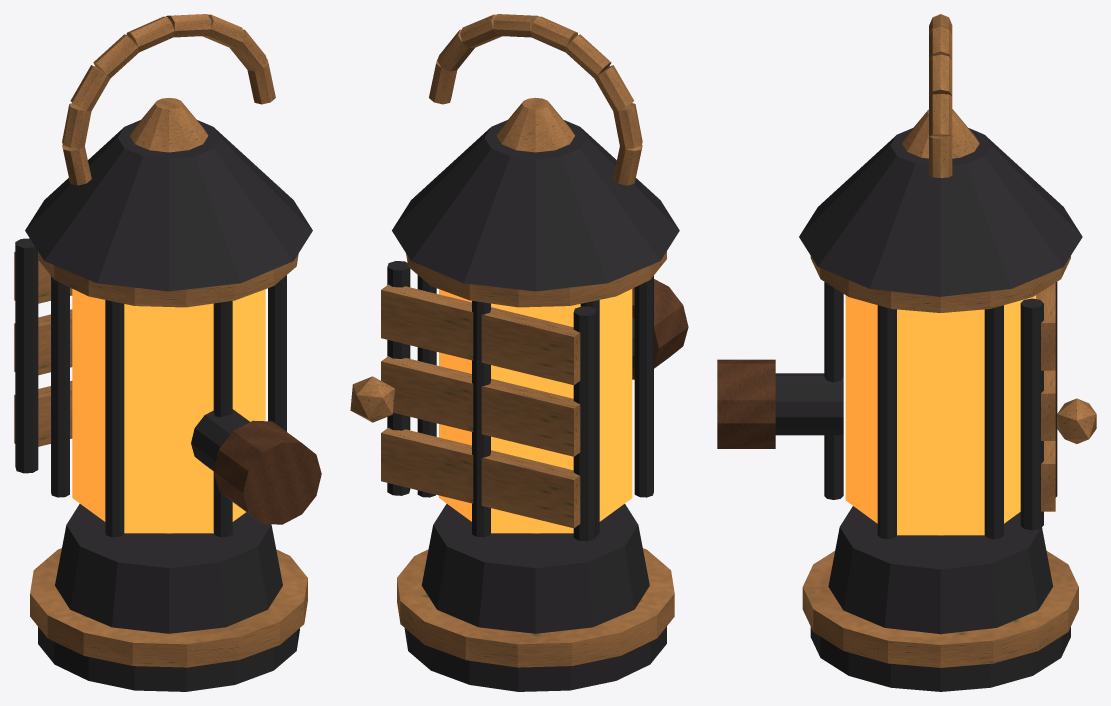
Rendered from forge_lantern.glb.
3 renders of one model, left to right at view 1: azimuth 30°, elevation 25°; view 2: azimuth 150°, elevation 25°; view 3: azimuth 270°, elevation 25°, orthographic.
Visible parts, largest first — view 1: VentRoof, HoneyGlass, LowerCup, LowerBrassBand, GripWrap, Foot, ShutterRail_L, CagePost_04, UpperBrassBand, CagePost_03, CagePost_05, RoofFinial (+14 smaller); view 2: VentRoof, LowerCup, HoneyGlass, LowerBrassBand, ShutterSlat_01, ShutterSlat_03, ShutterSlat_02, Foot, ShutterRail_L, CagePost_04, UpperBrassBand, CagePost_02 (+15 smaller); view 3: VentRoof, HoneyGlass, LowerCup, LowerBrassBand, Foot, GripWrap, ShutterRail_R, CagePost_06, CagePost_01, GripStem, UpperBrassBand, CagePost_05 (+10 smaller).
Part boxes in pixels (x1,y1,x2,y2): VentRoof: [25, 120, 312, 291]; HoneyGlass: [72, 289, 265, 533]; LowerCup: [55, 504, 282, 633]; LowerBrassBand: [30, 548, 307, 667]; GripWrap: [213, 420, 321, 524]; Foot: [38, 627, 299, 691]; ShutterRail_L: [15, 238, 38, 473]; CagePost_04: [105, 300, 124, 537]; UpperBrassBand: [38, 251, 298, 307]; CagePost_03: [51, 276, 69, 497]; CagePost_05: [213, 301, 232, 537]; RoofFinial: [129, 98, 208, 152]; VentRoof: [392, 120, 679, 291]; LowerCup: [421, 503, 649, 633]; HoneyGlass: [439, 289, 632, 533]; LowerBrassBand: [397, 548, 674, 667]; ShutterSlat_01: [381, 427, 580, 528]; ShutterSlat_03: [381, 284, 580, 384]; ShutterSlat_02: [381, 356, 580, 456]; Foot: [404, 626, 666, 691]; ShutterRail_L: [573, 306, 596, 541]; CagePost_04: [634, 276, 653, 497]; UpperBrassBand: [406, 251, 666, 307]; CagePost_02: [472, 301, 490, 537]; VentRoof: [799, 128, 1082, 296]; HoneyGlass: [845, 295, 1035, 535]; LowerCup: [828, 506, 1053, 634]; LowerBrassBand: [802, 550, 1078, 667]; Foot: [810, 627, 1070, 691]; GripWrap: [717, 359, 775, 448]; ShutterRail_R: [1020, 298, 1043, 530]; CagePost_06: [877, 305, 896, 539]; CagePost_01: [984, 305, 1003, 539]; GripStem: [775, 373, 843, 435]; UpperBrassBand: [810, 256, 1070, 312]; CagePost_05: [824, 282, 843, 499].
Size of the model in its own units: 0.146 by 0.3469 by 0.1952.
Materials: 5 (2 with a texture image).
